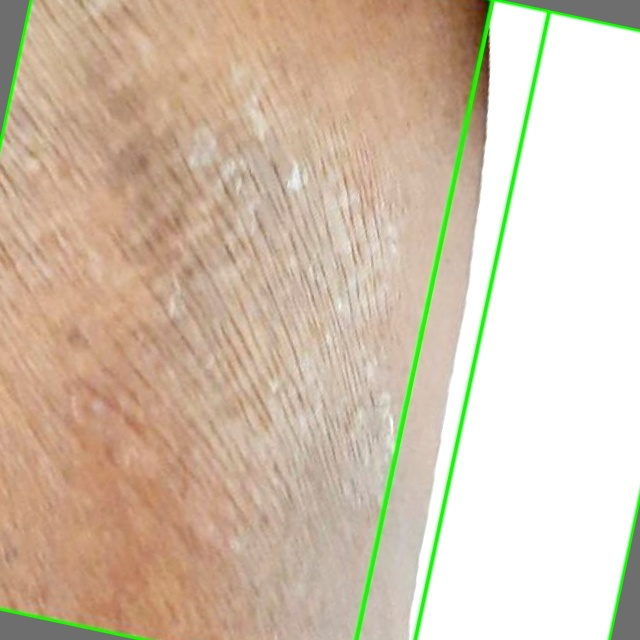Tinea Corporis: (0, 0, 549, 639), (356, 0, 639, 639)
